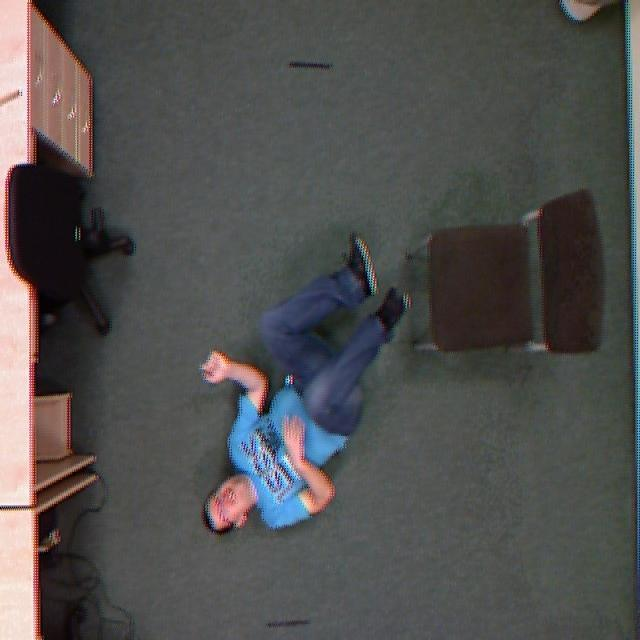fall detected: (190, 226, 415, 542)
